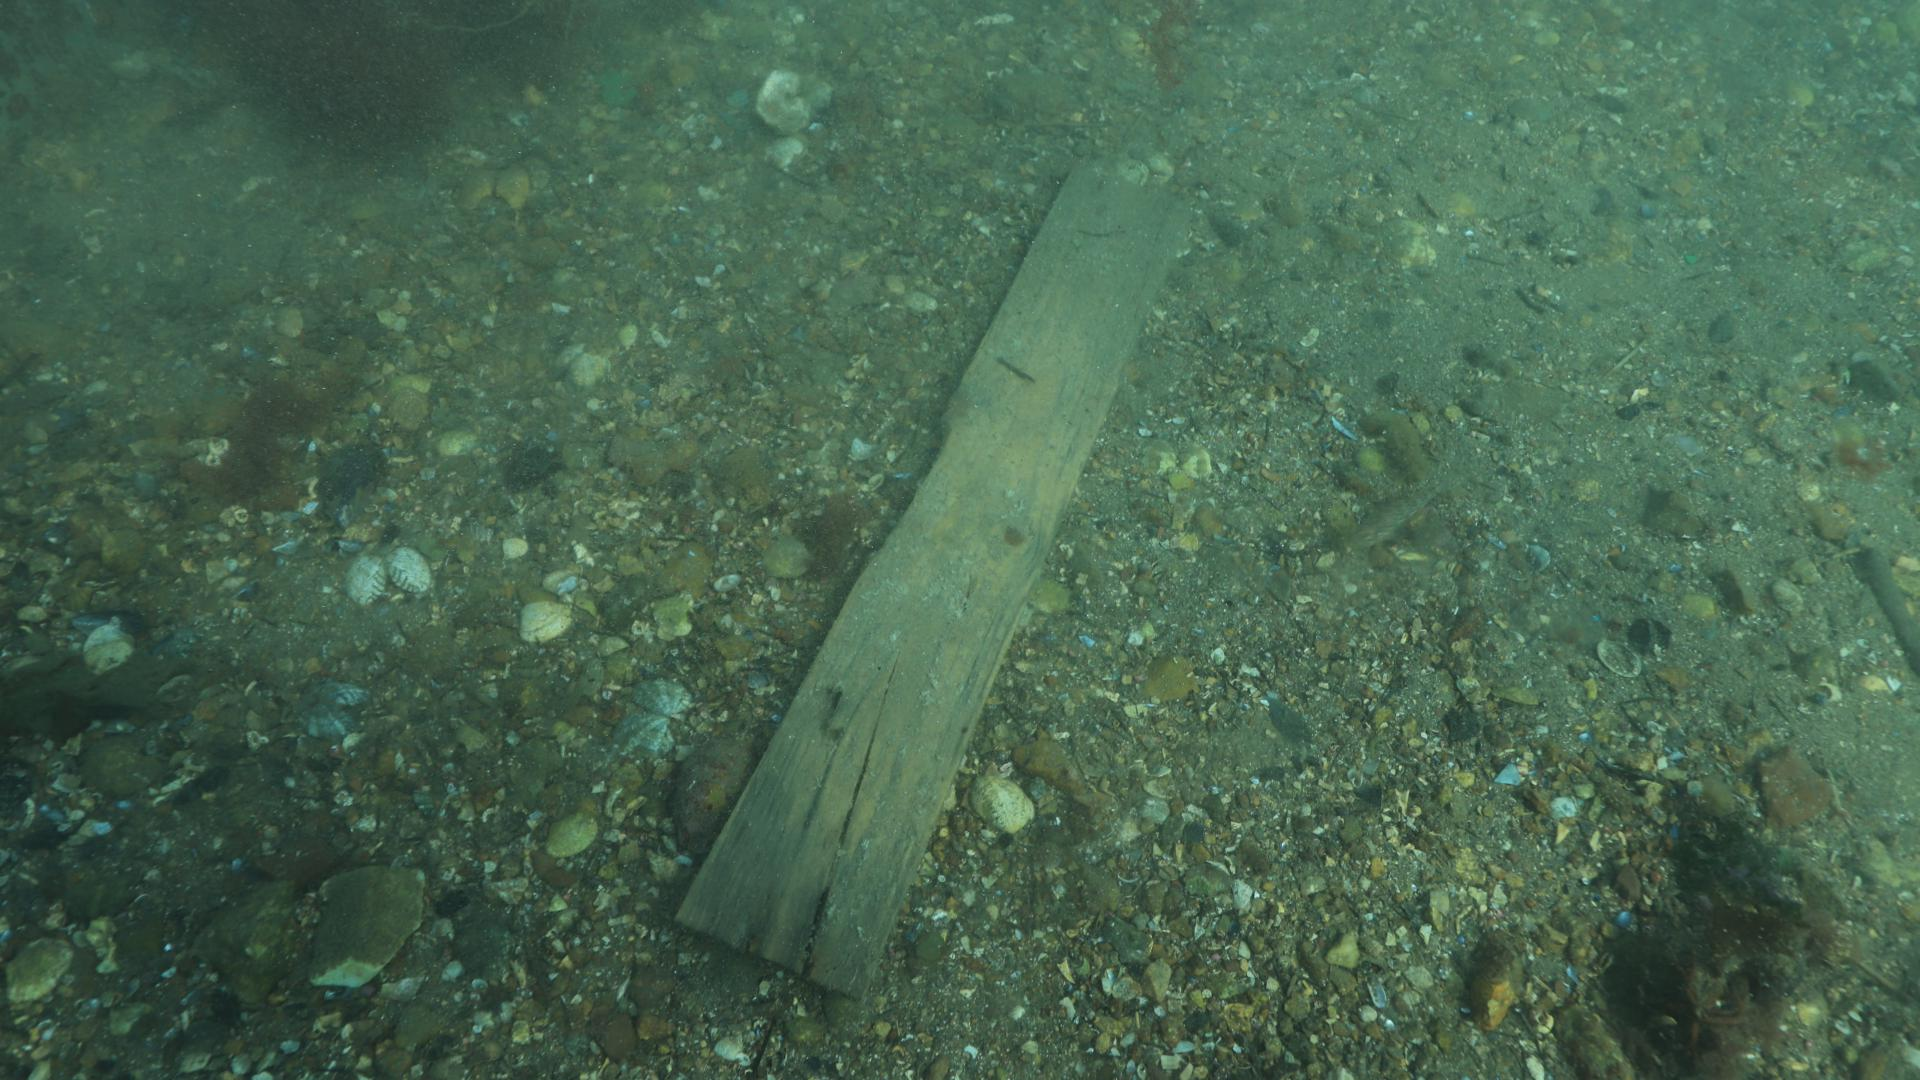wood: (669, 161, 1195, 1009)
